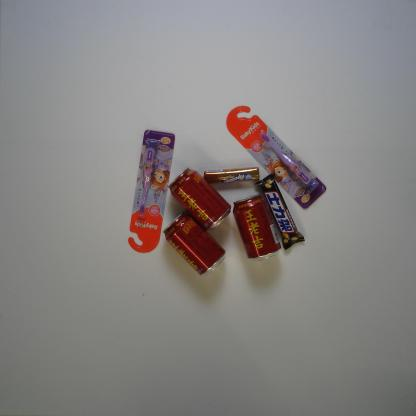Candy: (204, 166, 260, 186)
Chocolate: (253, 172, 305, 251)
Drink: (162, 209, 227, 278), (167, 167, 232, 231), (233, 193, 282, 262)
Personal Hygiene: (226, 105, 326, 210), (126, 128, 175, 254)
